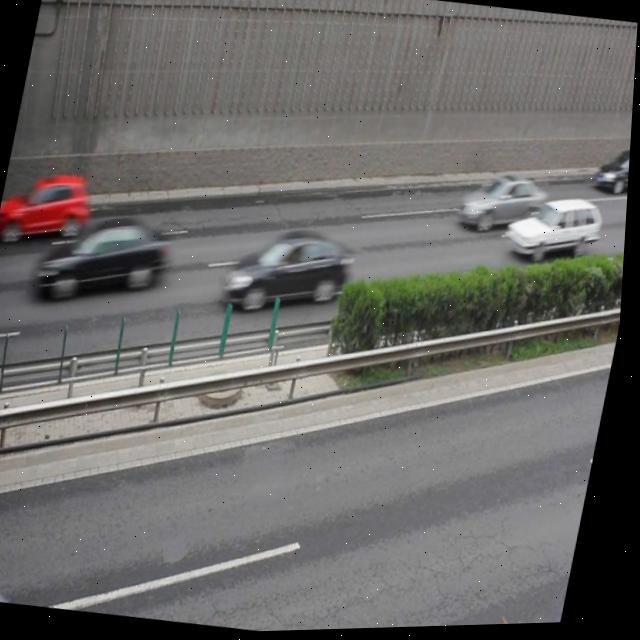car: (36, 201, 179, 308), (223, 219, 360, 321), (503, 191, 609, 270), (3, 163, 96, 246), (457, 170, 552, 242), (593, 148, 632, 199)
